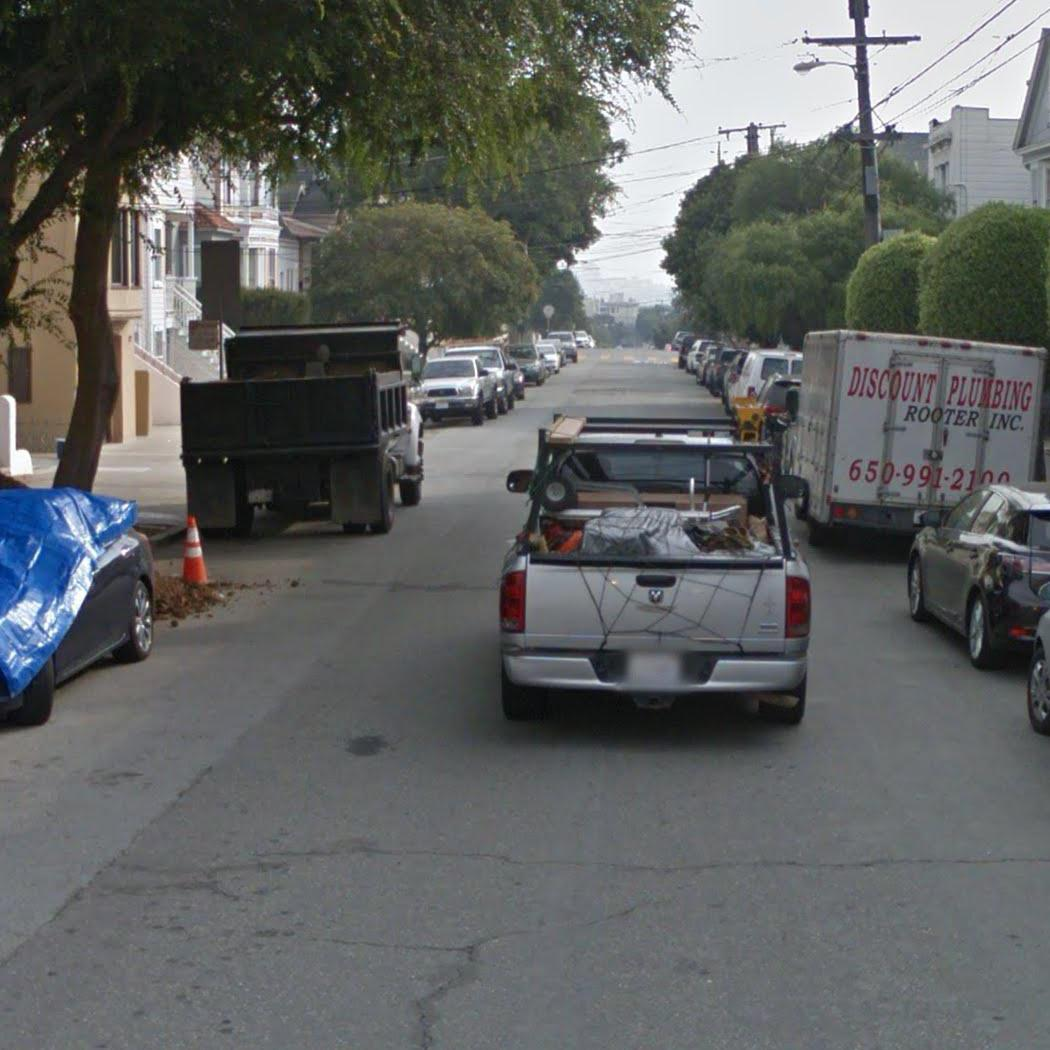No Parking: (186, 318, 220, 352)
